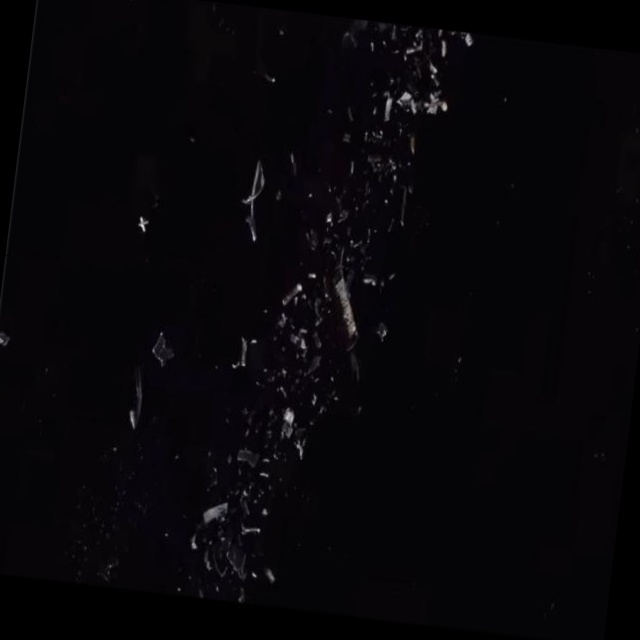large_debris: (323, 244, 369, 338), (233, 154, 271, 249), (125, 376, 148, 433), (276, 277, 307, 313), (276, 401, 300, 447), (227, 443, 261, 475), (222, 547, 250, 584), (148, 328, 172, 371), (197, 500, 229, 528), (421, 88, 451, 117), (398, 29, 423, 63), (229, 336, 250, 373), (379, 90, 398, 129), (390, 88, 420, 112), (396, 184, 411, 230), (341, 356, 363, 386), (236, 521, 261, 544), (363, 152, 385, 178), (301, 351, 322, 378), (301, 222, 320, 251), (423, 62, 443, 86), (284, 149, 300, 178), (290, 433, 307, 460), (261, 565, 280, 589), (382, 156, 400, 181), (309, 298, 324, 327), (339, 102, 357, 126), (340, 158, 359, 180), (269, 181, 285, 204), (199, 551, 214, 575), (342, 28, 360, 48), (254, 500, 271, 521), (405, 133, 421, 155), (259, 71, 277, 88), (458, 31, 474, 49), (132, 216, 148, 234), (354, 17, 374, 31), (376, 323, 389, 344), (250, 334, 263, 353), (256, 468, 272, 483), (240, 503, 256, 518), (434, 40, 448, 57), (310, 333, 322, 352), (274, 313, 287, 329), (192, 534, 202, 554), (323, 212, 334, 230), (0, 331, 11, 349), (307, 269, 321, 283), (172, 573, 182, 592), (342, 132, 354, 147), (373, 21, 389, 32), (277, 382, 289, 396), (338, 212, 349, 227), (361, 278, 375, 289), (298, 339, 308, 354), (327, 369, 336, 385), (344, 340, 356, 351), (249, 569, 259, 582), (379, 196, 389, 209), (289, 336, 299, 348), (308, 396, 318, 408), (365, 43, 377, 53), (298, 326, 309, 336), (236, 591, 246, 602), (436, 26, 445, 37), (280, 368, 289, 379), (387, 271, 395, 283), (105, 562, 113, 574), (389, 28, 397, 40), (277, 25, 284, 38), (261, 458, 270, 468), (354, 408, 363, 417), (263, 307, 270, 318), (378, 281, 385, 290), (307, 192, 315, 199), (163, 533, 170, 541), (242, 492, 249, 499), (381, 40, 386, 49), (215, 588, 221, 595), (332, 398, 338, 402), (272, 455, 276, 461), (269, 413, 274, 417)
